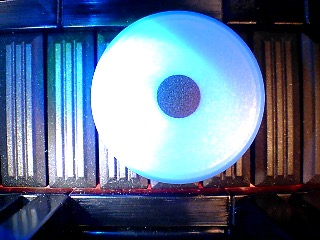BOHO: (90, 9, 265, 184)
